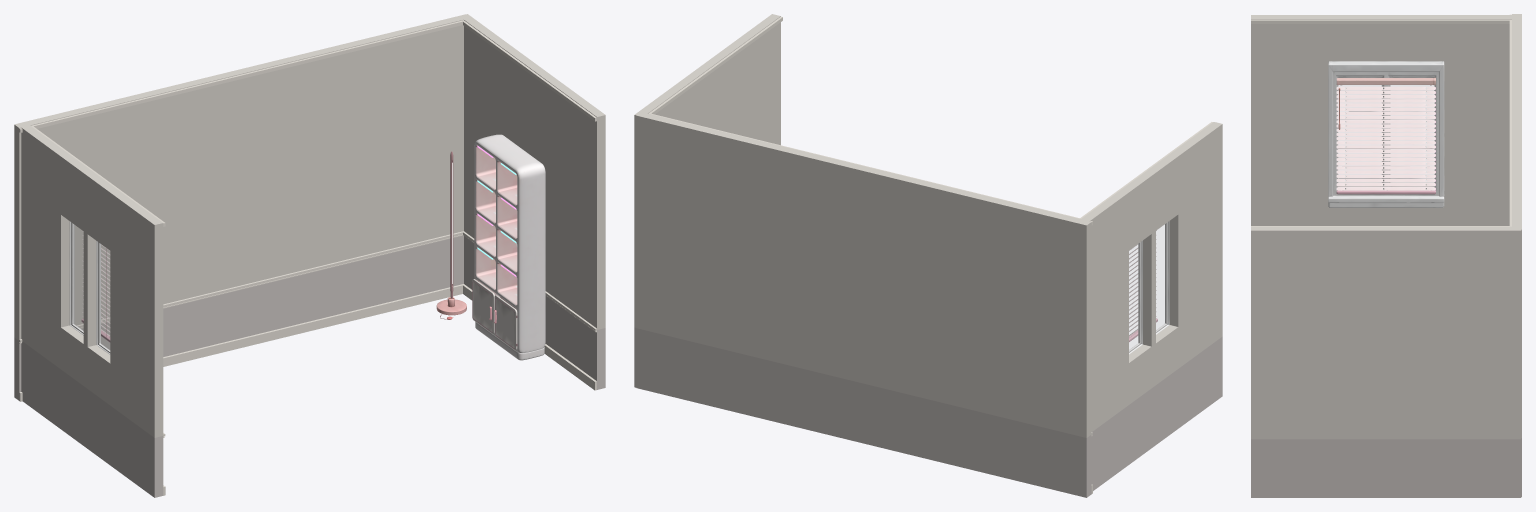
The picture shows the model from 3 angles, left to right: view 1: azimuth 30°, elevation 25°; view 2: azimuth 150°, elevation 25°; view 3: azimuth 270°, elevation 25°; orthographic projection. The views are drawn at different scales.
Visible parts, largest first — view 1: architecture.backWall.v6.upper, architecture.leftWall.v6.upper, architecture.rightWall.v6.upper, architecture.backWall.v6.lower, bookshelf.carcass, architecture.leftWall.v6.lower, architecture.rightWall.v6.lower, architecture.backWall.v6.baseboard, architecture.backWall.v6.topTrim, window.frame, architecture.backWall.v6.chairRail, window.glass.right (+5 smaller); view 2: architecture.backWall.v6.upper, architecture.backWall.v6.lower, architecture.leftWall.v6.upper, architecture.rightWall.v6.upper, architecture.leftWall.v6.lower, window.frame, window.glass.right, window.glass.left, architecture.rightWall.v6.topTrim; view 3: architecture.rightWall.v6.upper, architecture.leftWall.v6.upper, architecture.rightWall.v6.lower, window.frame, architecture.backWall.v6.upper, architecture.leftWall.v6.topTrim, window.headrail, architecture.backWall.v6.topTrim, window.glass.right, window.glass.left, window.bottomRail, window.slat.16 (+24 smaller).
Boxes of the visible parts, x1,y1,x2,y2 form: architecture.backWall.v6.upper: (14, 14, 469, 340); architecture.leftWall.v6.upper: (17, 124, 163, 437); architecture.rightWall.v6.upper: (461, 14, 605, 329); architecture.backWall.v6.lower: (14, 235, 463, 400); bookshelf.carcass: (474, 134, 545, 360); architecture.leftWall.v6.lower: (21, 341, 163, 497); architecture.rightWall.v6.lower: (464, 236, 605, 389); architecture.backWall.v6.baseboard: (19, 284, 464, 401); architecture.backWall.v6.topTrim: (19, 20, 464, 132); window.frame: (69, 221, 110, 354); architecture.backWall.v6.chairRail: (19, 231, 464, 342); window.glass.right: (74, 225, 83, 330); architecture.backWall.v6.upper: (636, 112, 1091, 437); architecture.backWall.v6.lower: (636, 328, 1091, 497); architecture.leftWall.v6.upper: (1076, 122, 1222, 431); architecture.rightWall.v6.upper: (634, 14, 780, 327); architecture.leftWall.v6.lower: (1091, 336, 1222, 490); window.frame: (1129, 221, 1169, 354); window.glass.right: (1129, 244, 1138, 349); window.glass.left: (1156, 225, 1164, 329); architecture.rightWall.v6.topTrim: (649, 16, 782, 114); architecture.rightWall.v6.upper: (1251, 226, 1521, 439); architecture.leftWall.v6.upper: (1251, 15, 1521, 225); architecture.rightWall.v6.lower: (1251, 439, 1521, 497); window.frame: (1328, 61, 1444, 207); architecture.backWall.v6.upper: (1512, 14, 1521, 437); architecture.leftWall.v6.topTrim: (1251, 19, 1509, 23); window.headrail: (1336, 77, 1435, 85); architecture.backWall.v6.topTrim: (1509, 14, 1511, 226); window.glass.right: (1391, 85, 1433, 184); window.glass.left: (1339, 85, 1381, 184); window.bottomRail: (1336, 190, 1435, 194); window.slat.16: (1336, 153, 1435, 157).
Bounding box in the file's own units: 5.21 × 3 × 2.75.
30 materials, 9 textured.
